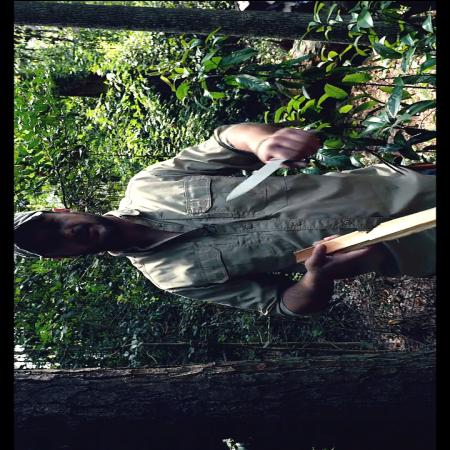long weapon: (218, 138, 312, 202)
